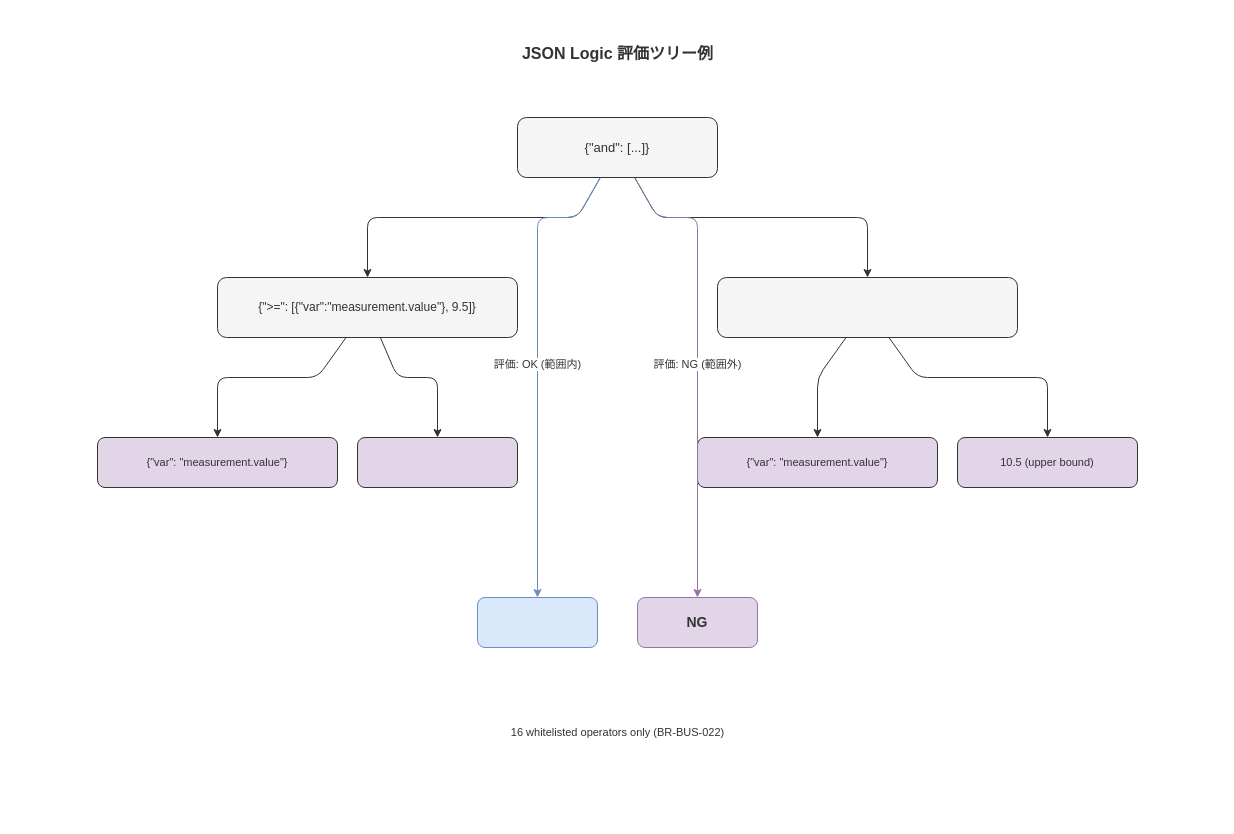
Image size: 1234x834. Some labels were removed from this diagram. Here are the shapes that lost their labels. From the top down, the box of each, then its label:
(716, 276, 1018, 338): {"<=": [{"var":"measurement.value"}, 10.5]}
(356, 436, 518, 488): 9.5 (lower bound)
(476, 596, 598, 648): OK
